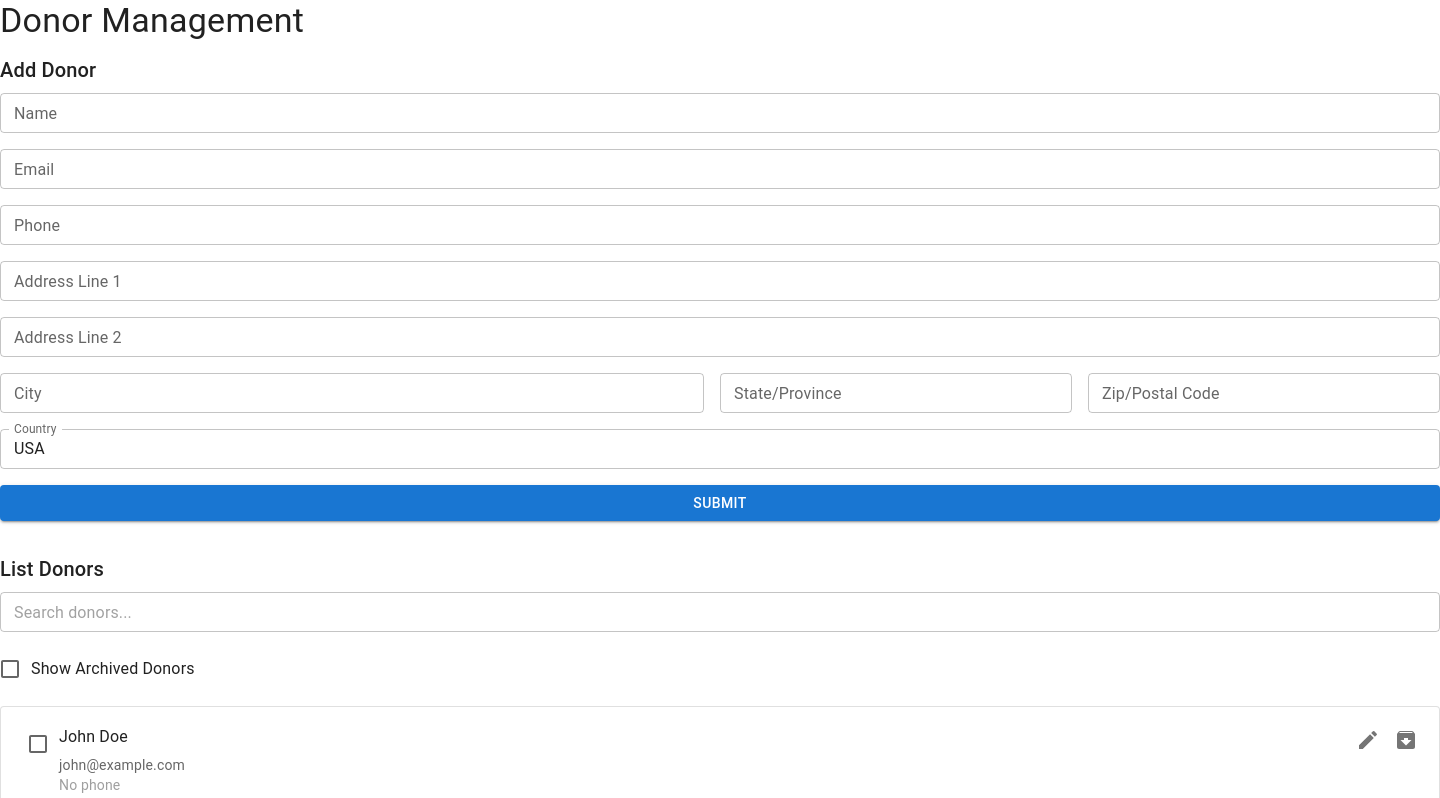
Test case: DonorsPage › passes donor to DonorForm when edit button clicked
Expected: the text "John Doe" is shown, x1=59 y1=723 x2=128 y2=751
Note: Click edit button
Click the button named "edit": (1368, 740) x1=1351 y1=723 x2=1385 y2=757
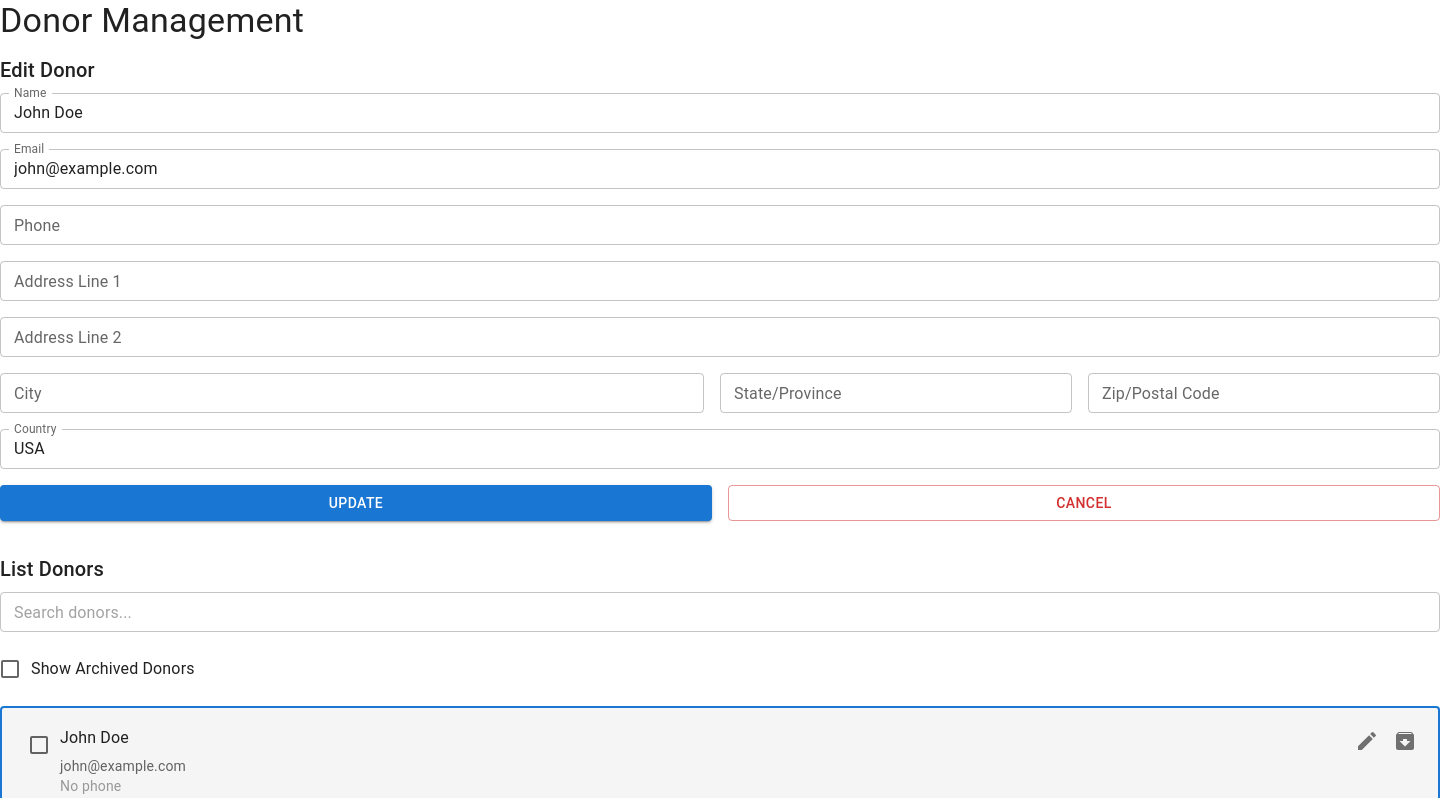
Expected: the field labelled "Name" holds "John Doe", x1=0 y1=93 x2=1439 y2=133
Expected: the field labelled "Email" holds "john@example.com", x1=0 y1=149 x2=1439 y2=189
Expected: the button "Update" is shown, x1=0 y1=485 x2=712 y2=521
